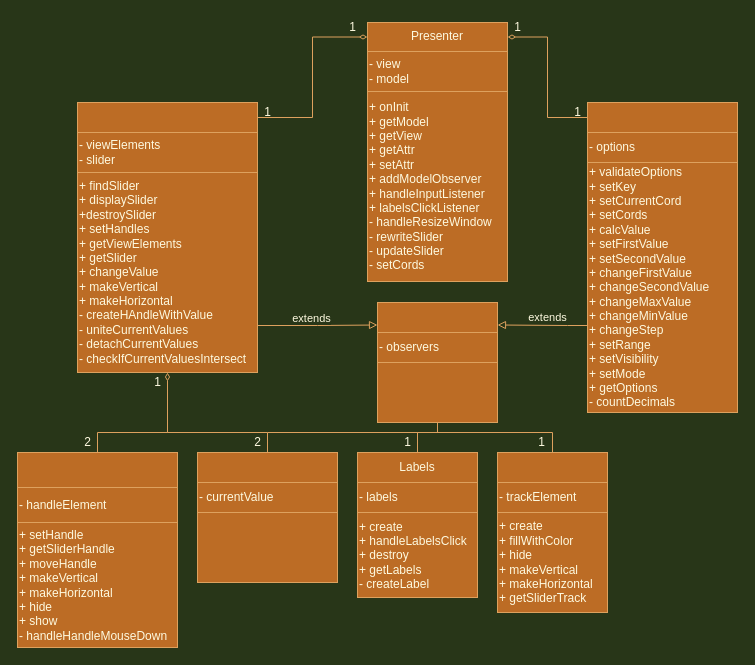
Some shapes in this 755 by 665 pixel diagram are drawn without their labels. The shapes that lost their labels are listed below. From the top down, each one's centre as x and y in pixels, then its label:
At point 167,117: "View".
At point 662,117: "Model".
At point 437,317: "Observer".
At point 437,392: "+ addObserver + removeObserver + notifyObservers".
At point 97,470: "Handle".
At point 267,467: "CurrentValue".
At point 552,467: "Track".
At point 267,547: "+ getCurrentValue + setTextOfCurrentValue + hide + show".
